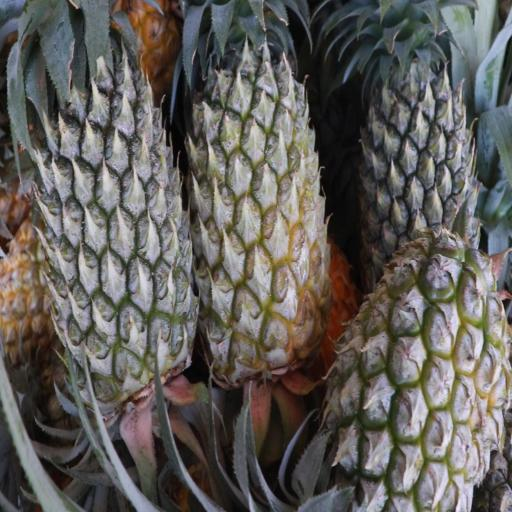------------------------------: (190, 12, 324, 368), (334, 249, 508, 510)
Pineapple - v8 v1: (0, 218, 63, 361)
